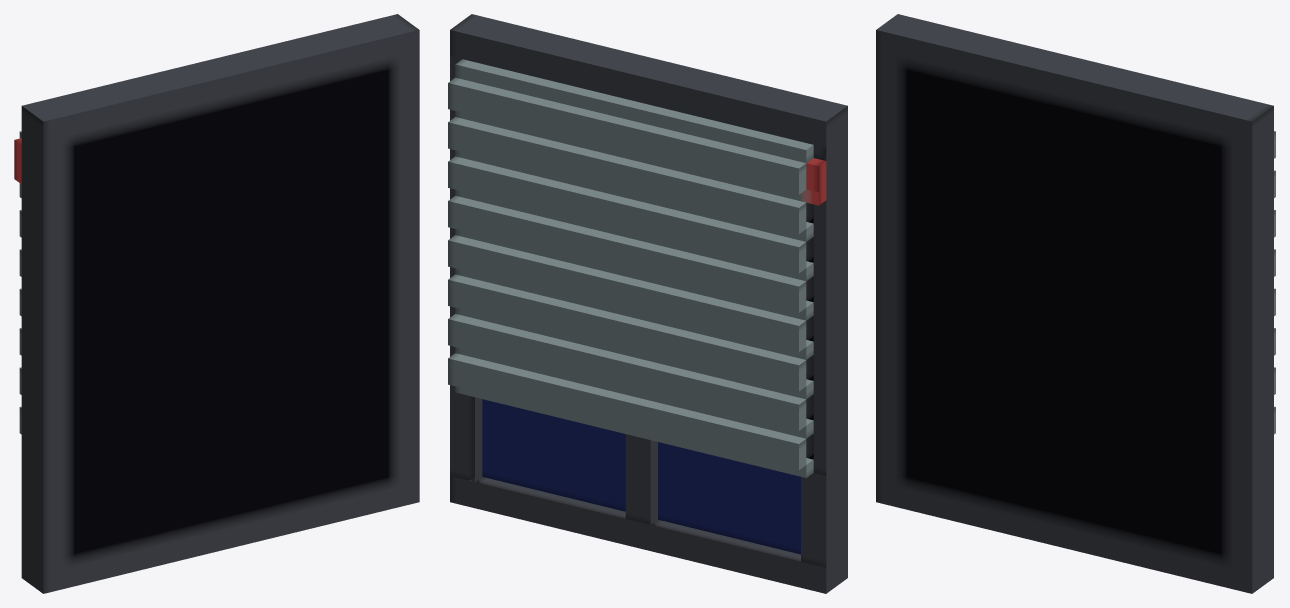
Rendered from okno_zaslona.dae.
3 renders of one model, left to right at view 1: azimuth 30°, elevation 25°; view 2: azimuth 150°, elevation 25°; view 3: azimuth 330°, elevation 25°, orthographic.
Visible parts, largest first — view 1: Content; view 2: Content; view 3: Content.
Boxes of the visible parts, x1,y1,x2,y2 form: Content: (14,14,419,593); Content: (448,14,847,593); Content: (876,14,1275,593).
Size of the model in its own units: 30 by 36 by 5.
1 material, 1 textured.
